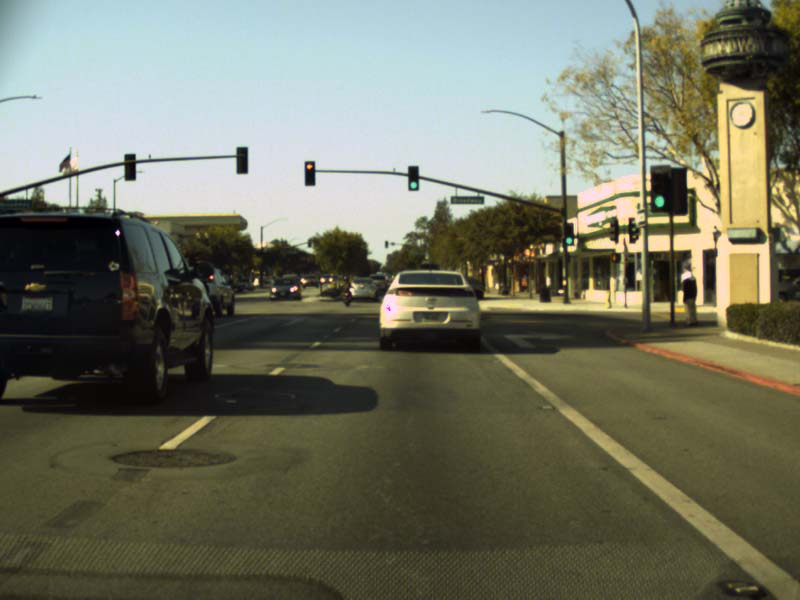Green: (651, 167, 674, 212), (407, 165, 418, 191), (563, 223, 573, 245)
Red: (304, 160, 314, 185)
